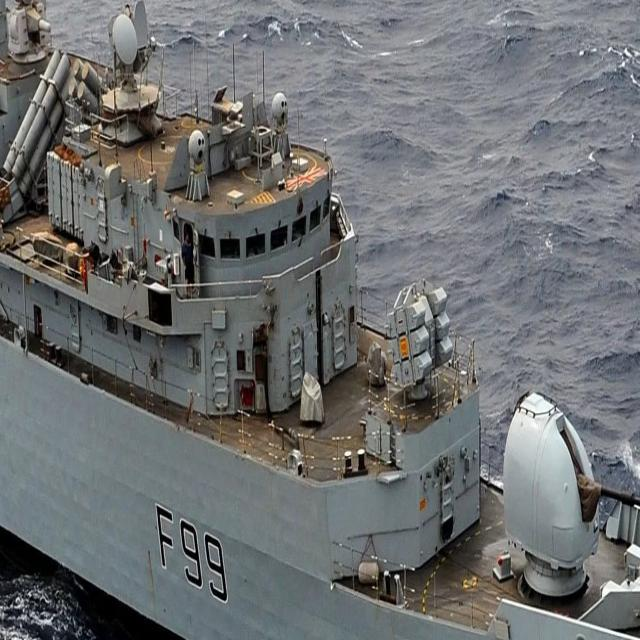Fragata: (1, 1, 640, 470)
